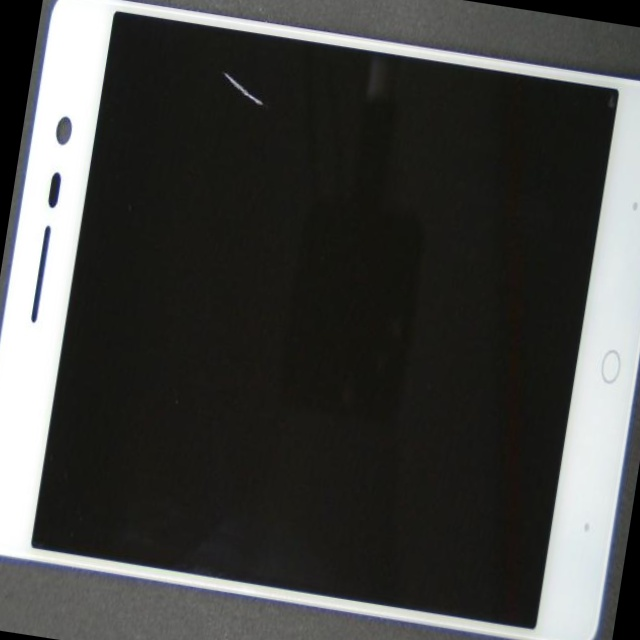scratch: (170, 51, 370, 163)
